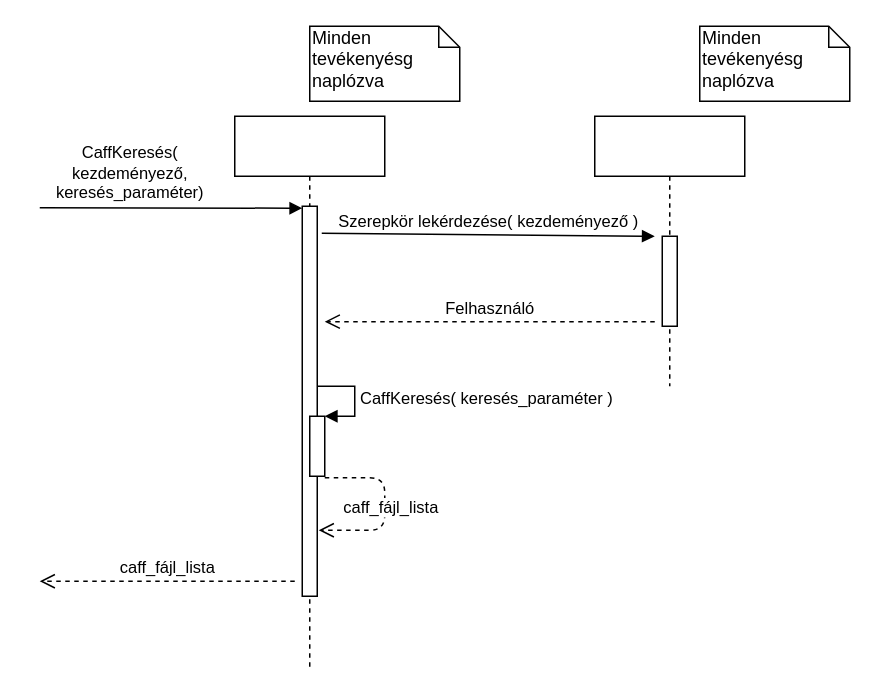
This 876x698 diagram has some shape labels left out. Here are the shapes that lost their labels. From the top down, the centre of each, then its label:
At point 669,250: "f: Felhasználói Adatkezelő".
At point 309,393: "c: CAFF Fájl Kezelő".
